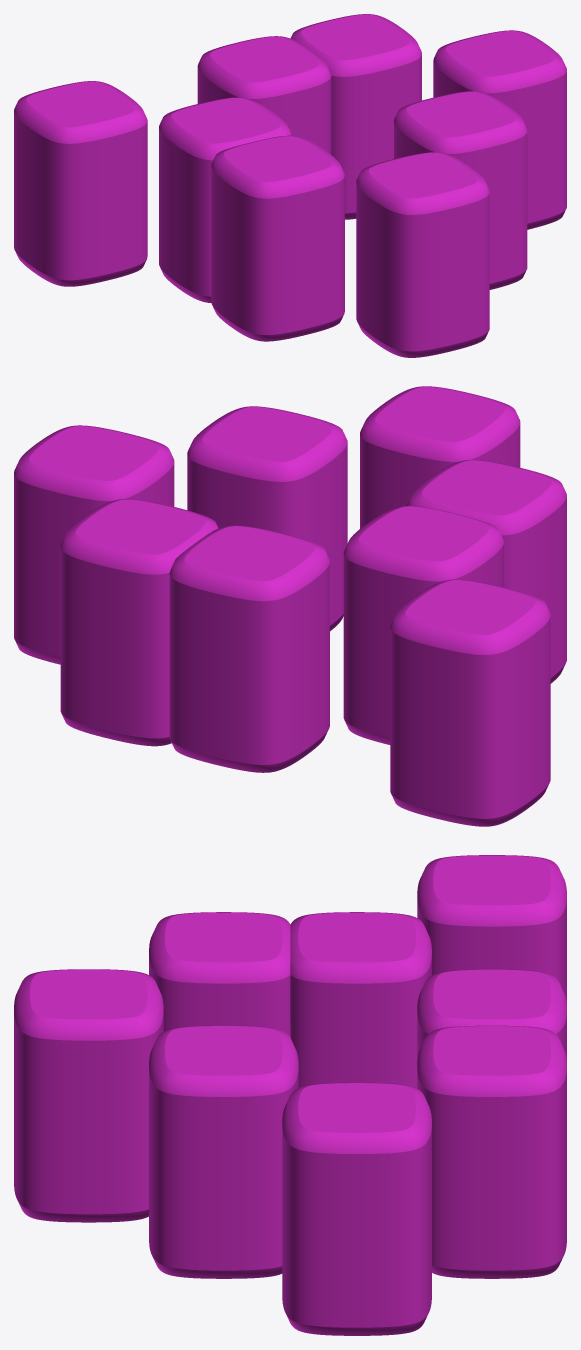
The model's file is Letter_a_Small.fbx.
The picture shows the model from 3 angles, top to bottom: view 1: azimuth 30°, elevation 25°; view 2: azimuth 150°, elevation 25°; view 3: azimuth 270°, elevation 25°; orthographic projection. The views are drawn at different scales.
Parts seen in each view (by area): view 1: Letter_a; view 2: Letter_a; view 3: Letter_a.
Part boxes in pixels (box(x1,y1,x2,y2)): Letter_a: box(14, 14, 566, 357); Letter_a: box(14, 386, 566, 826); Letter_a: box(14, 855, 566, 1335).
Bounding box in the file's own units: 0.4311 × 0.14 × 0.3465.
